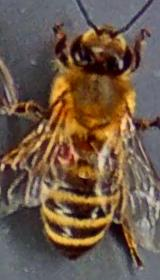varroa_mite: (48, 136, 74, 166)
